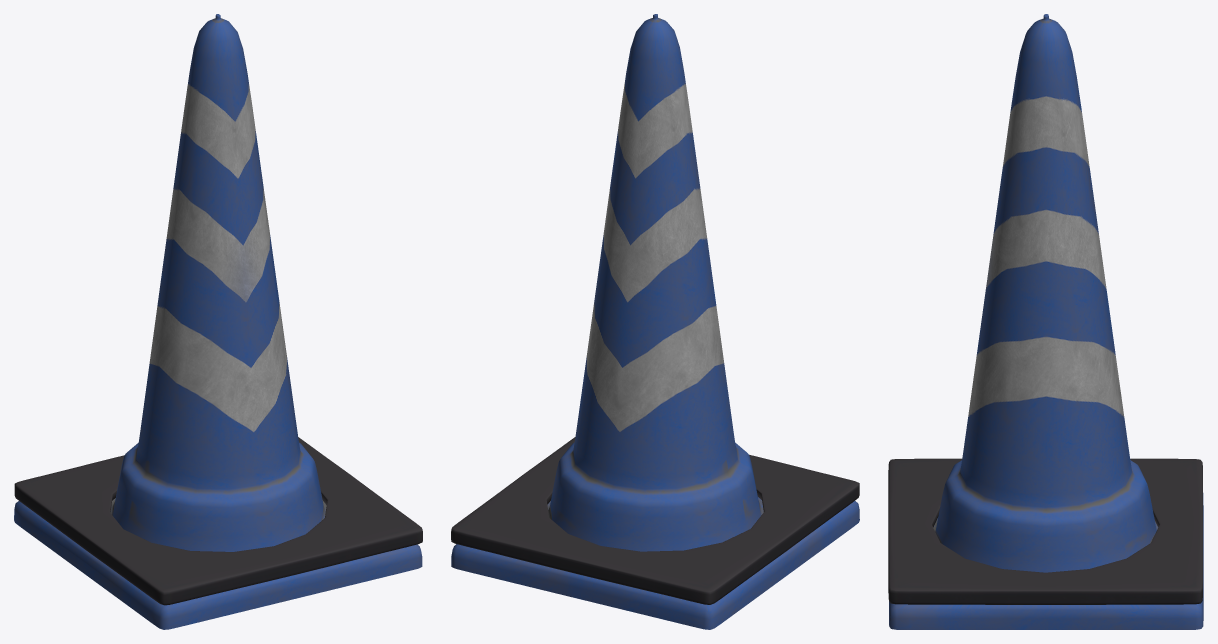
Rendered from ColorCone_Scotch_Dirty_Blue.fbx.
3 views of the same model, side by side, from view 1: azimuth 30°, elevation 25°; view 2: azimuth 150°, elevation 25°; view 3: azimuth 270°, elevation 25° (orthographic). The views are drawn at different scales.
Visible parts, largest first — view 1: ColorCone_Scotch_Dirty_Blue; view 2: ColorCone_Scotch_Dirty_Blue; view 3: ColorCone_Scotch_Dirty_Blue.
Boxes of the visible parts, x1=… form: ColorCone_Scotch_Dirty_Blue: x1=14, y1=14, x2=422, y2=629; ColorCone_Scotch_Dirty_Blue: x1=451, y1=14, x2=859, y2=629; ColorCone_Scotch_Dirty_Blue: x1=888, y1=14, x2=1203, y2=629.
Size of the model in its own units: 38.04 by 38.06 by 73.14.
1 material, 1 textured.
